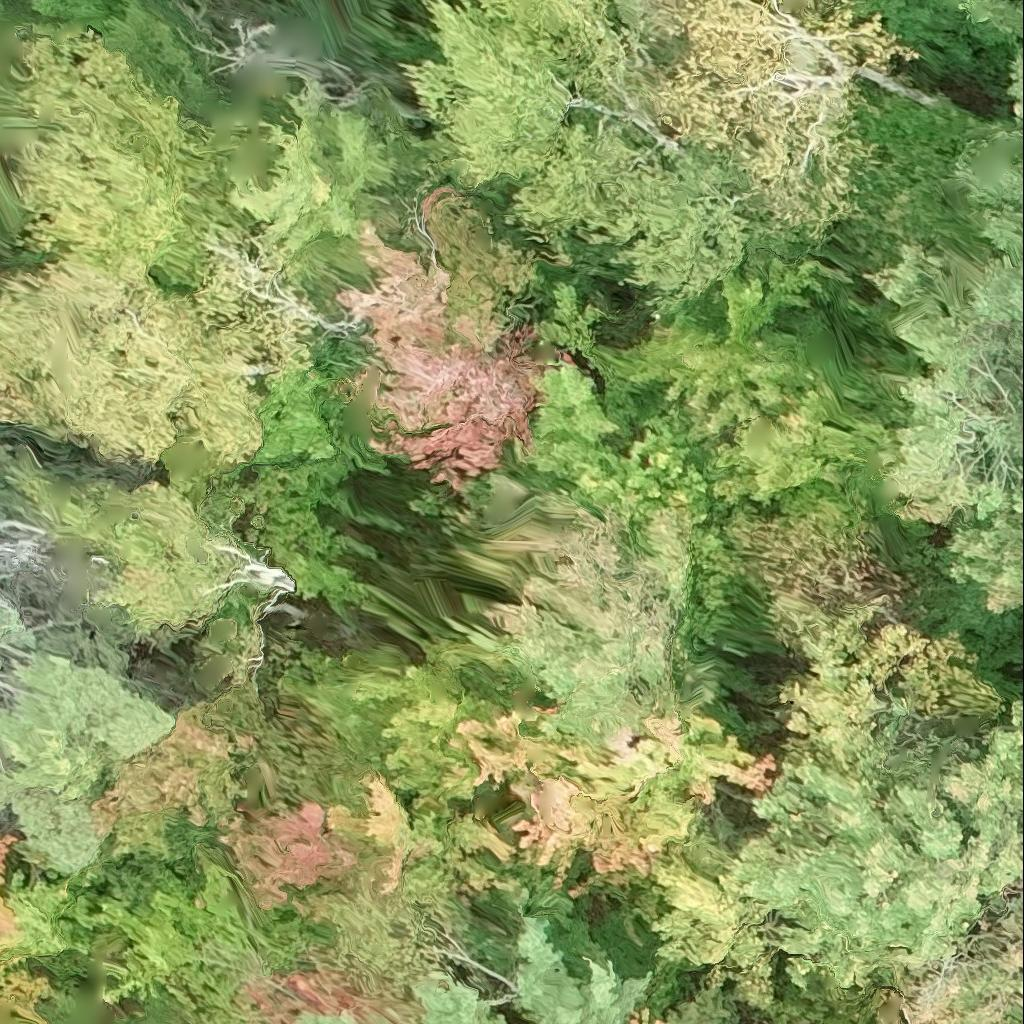crown: (874, 166, 1023, 616), (1012, 50, 1023, 116)
